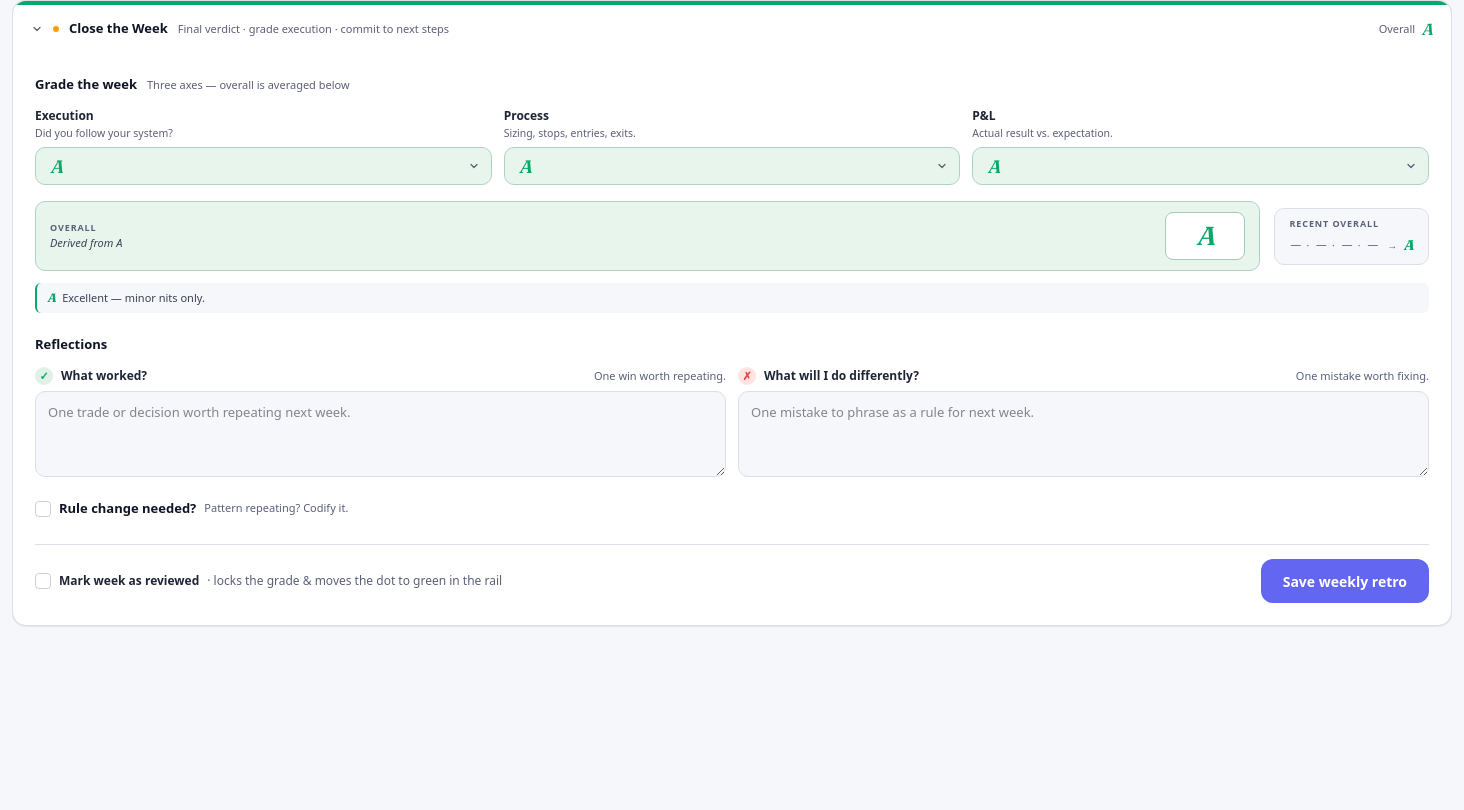
Test: CloseTheWeek — Phase 4.6 redesign › picking a value in the Overall select that differs from derived pins overall_override = true
This screenshot has width=1464, height=810.
Expected: the text with test id "overall-state-line" shows "Derived", [50,235,122,250]
// User picks B-, which doesn't match derived A → override pins.
Select "B-" in the dropdown with test id "overall-select": (1206, 236) [1166,212,1246,260]
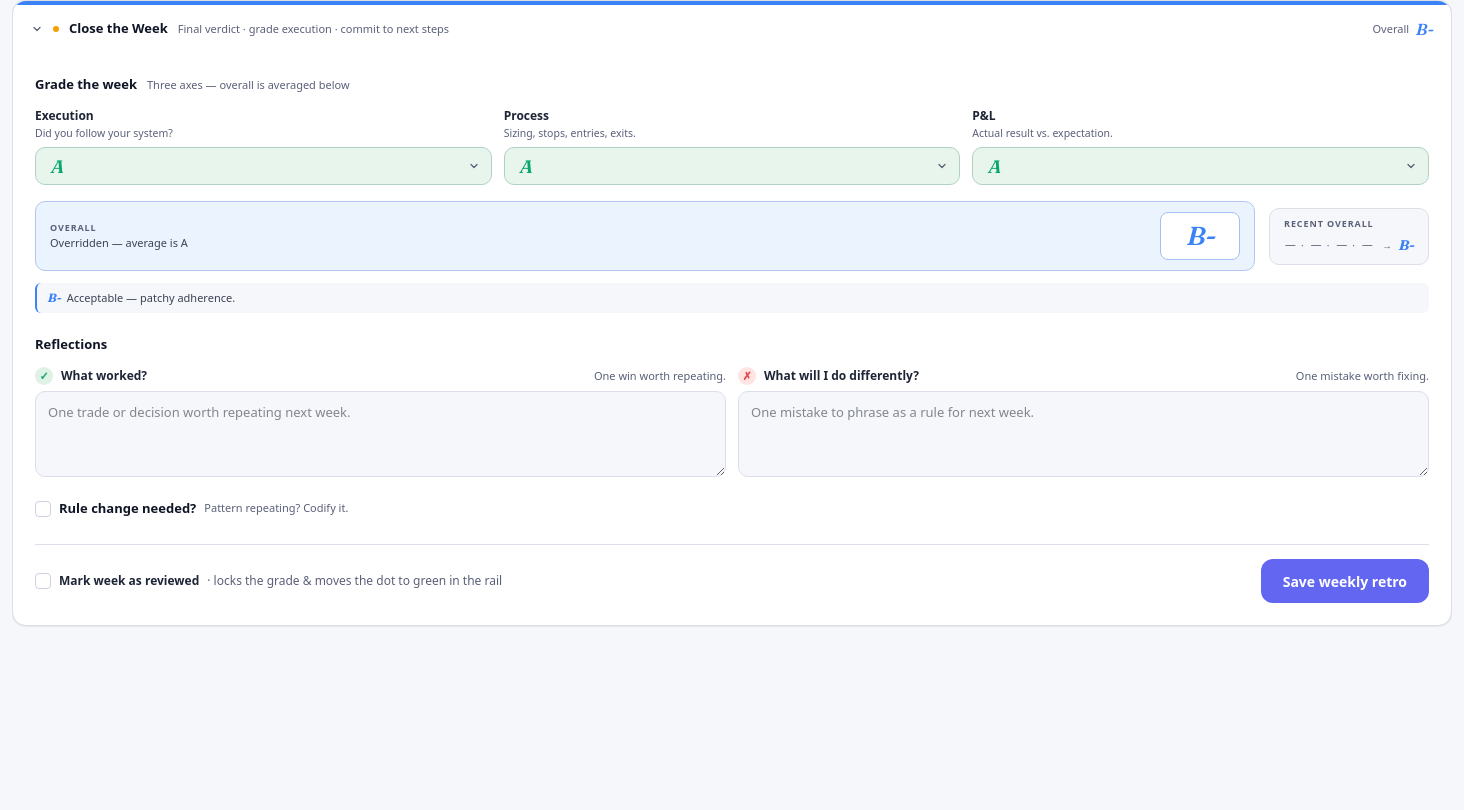
Result: the text with test id "overall-state-line" shows "Overridden" at [50,235,188,250]
